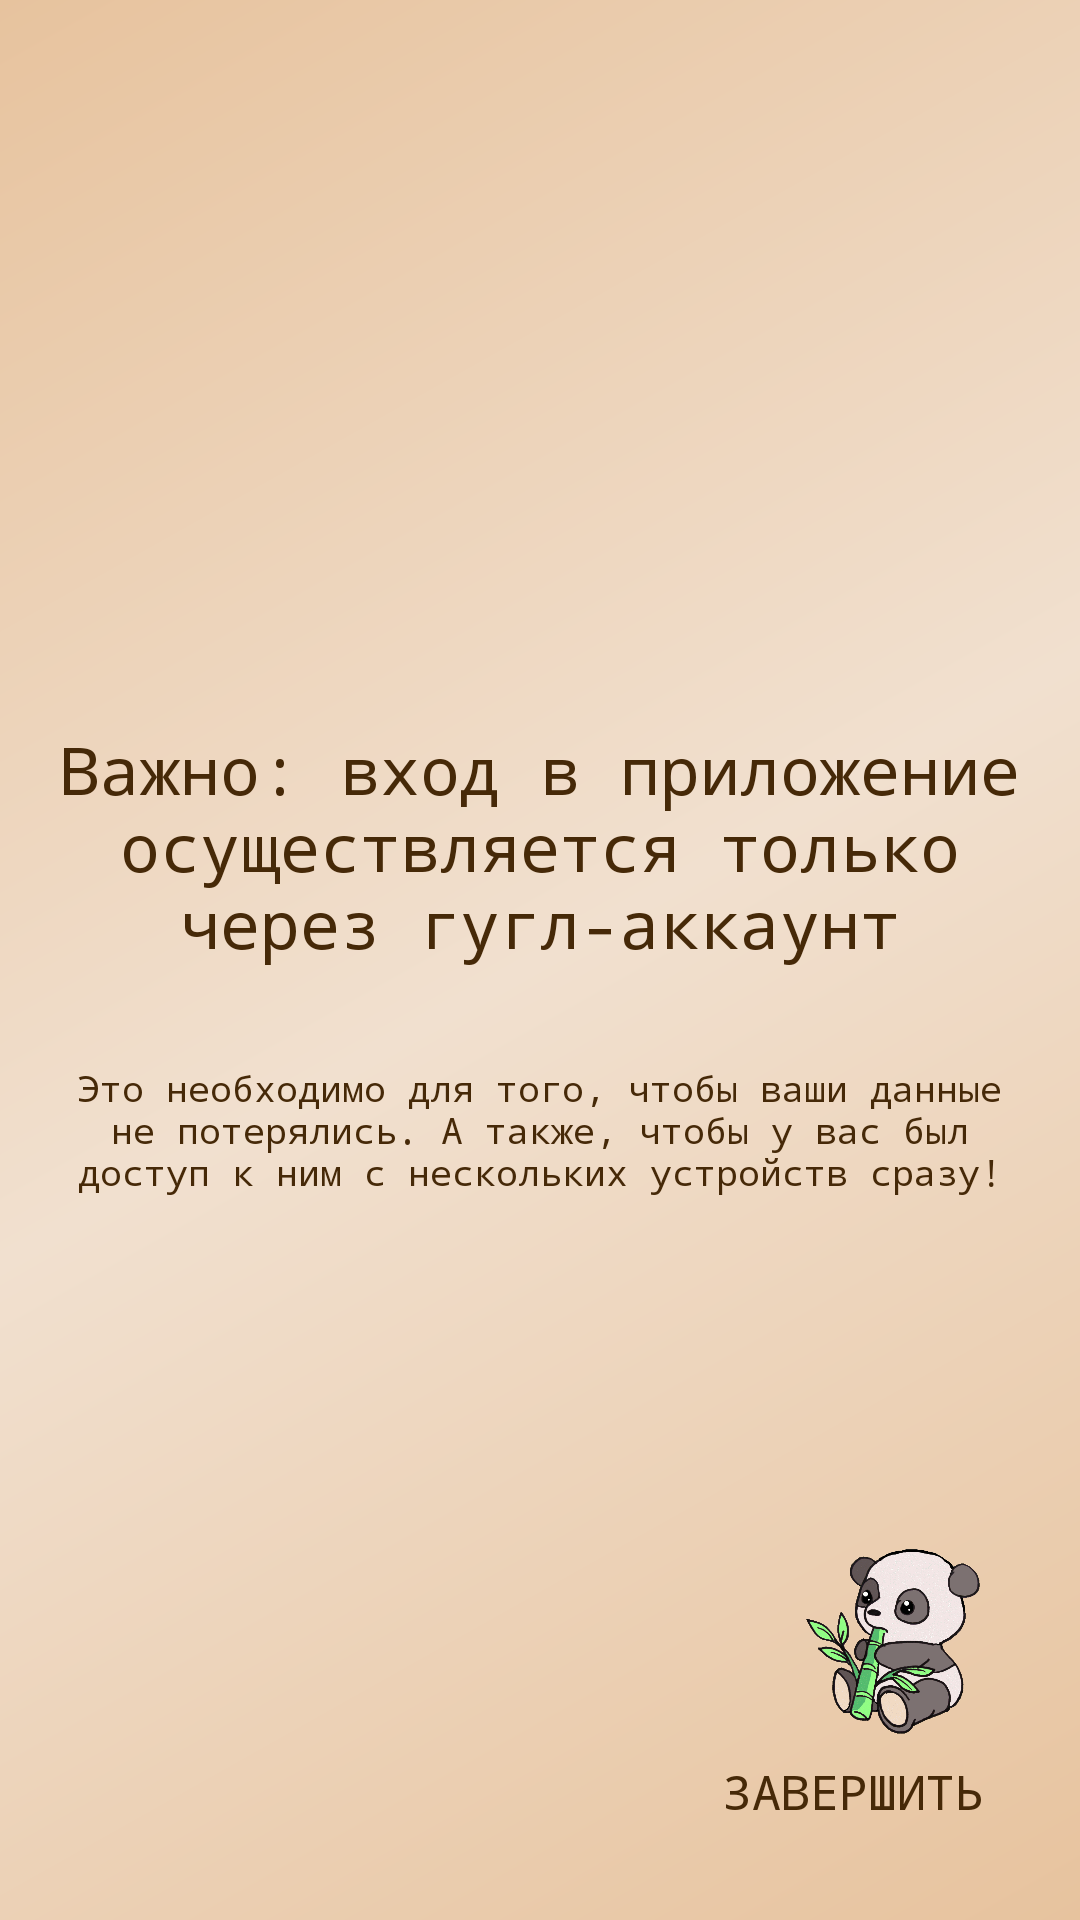

Locate icon controls on the screen. Image size 1080 x 1920, boxes as box(x1, y1, x2, y2).
panda: box(806, 1549, 980, 1734)
